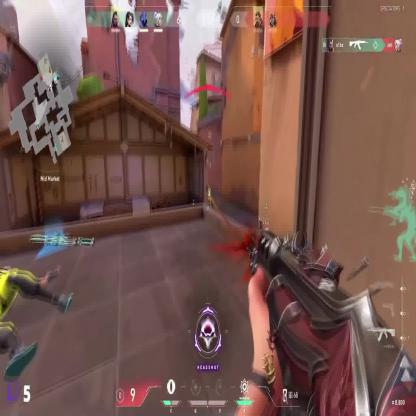enemy: (206, 184, 213, 205)
enemy_head: (208, 184, 210, 189)
